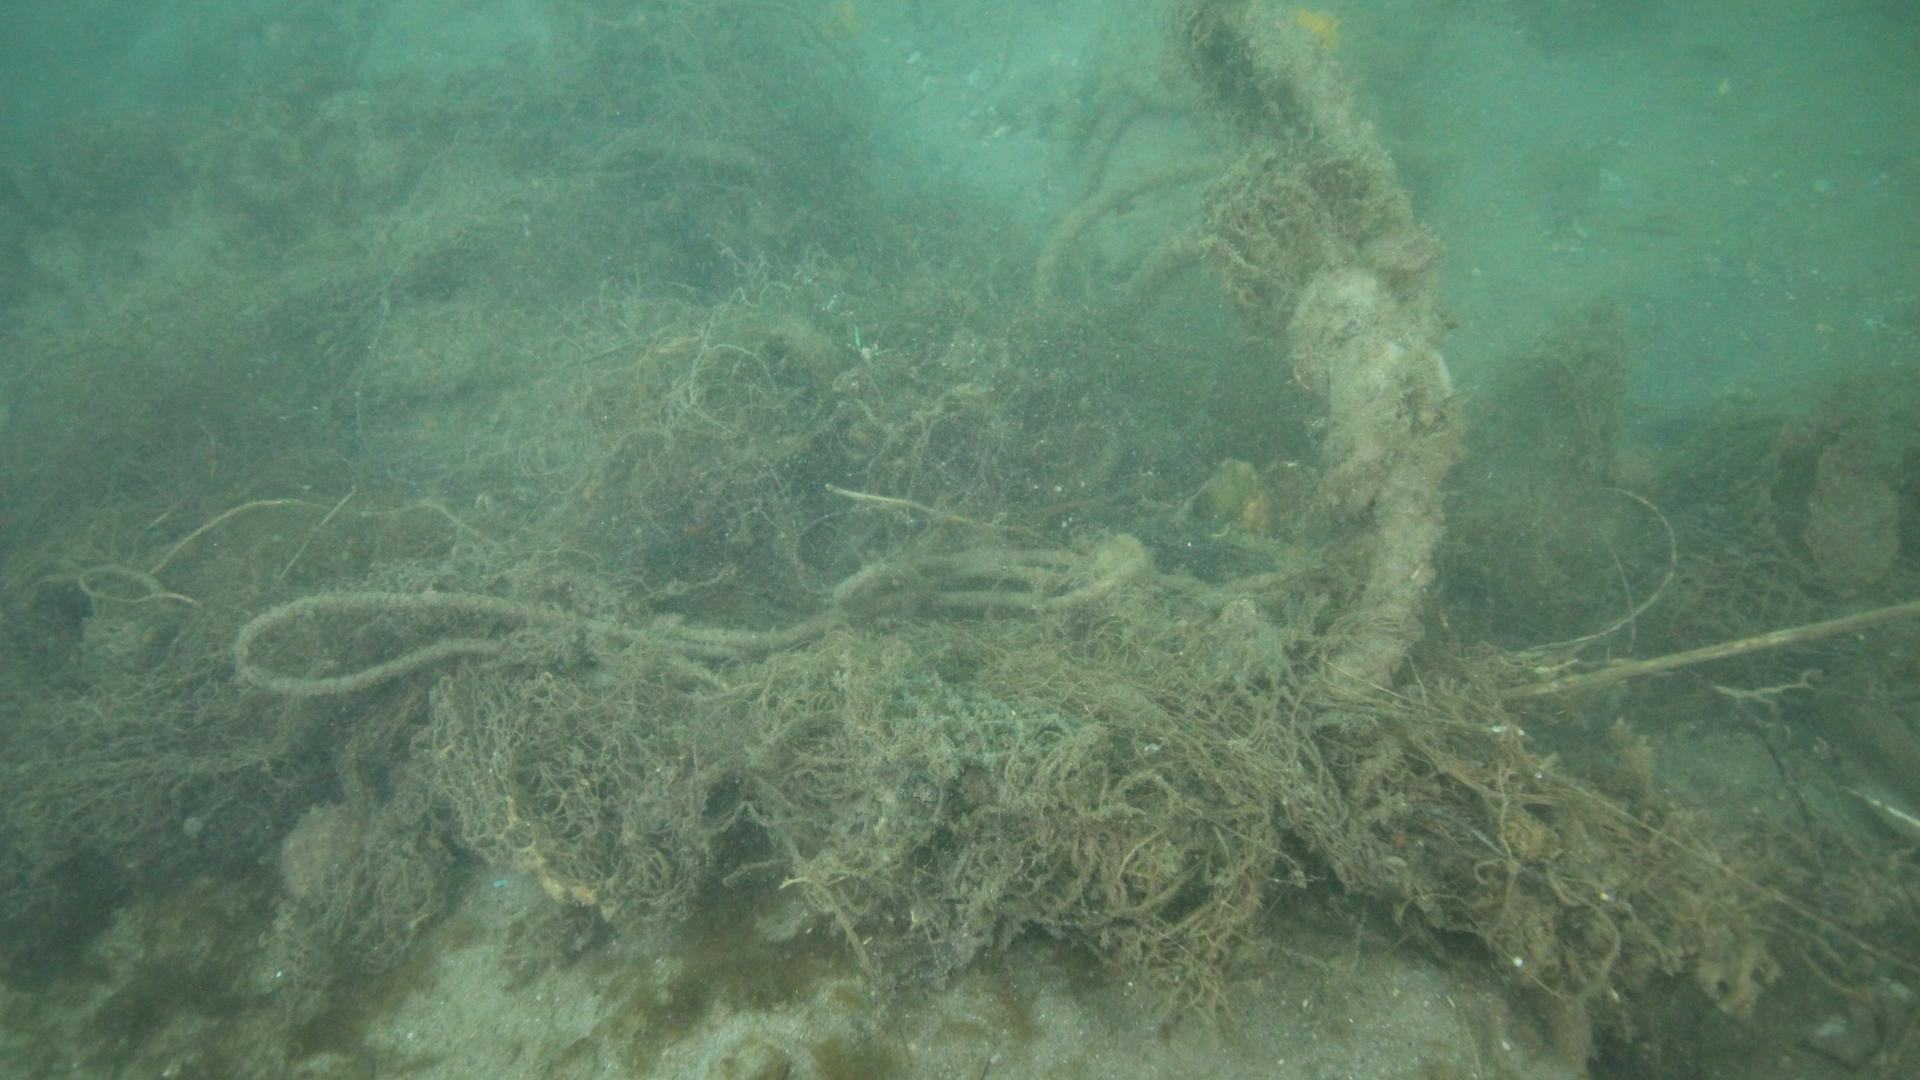bundle of ropes: (1200, 1, 1458, 684), (229, 529, 1147, 698)
